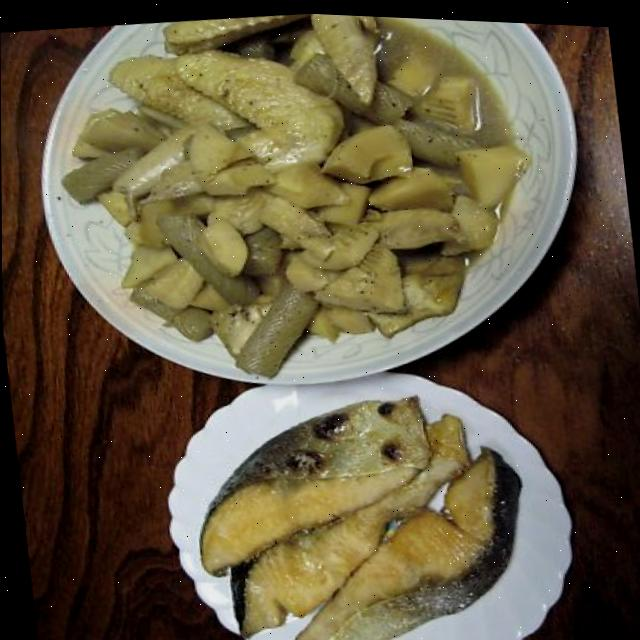熟制海鲜: (150, 347, 576, 640)
